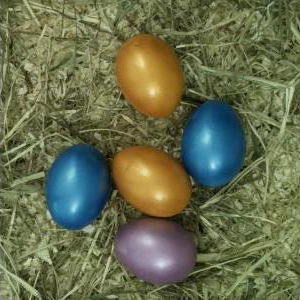egg: (109, 146, 193, 218), (111, 218, 198, 286), (115, 34, 184, 119), (181, 100, 246, 189), (45, 145, 111, 231)
